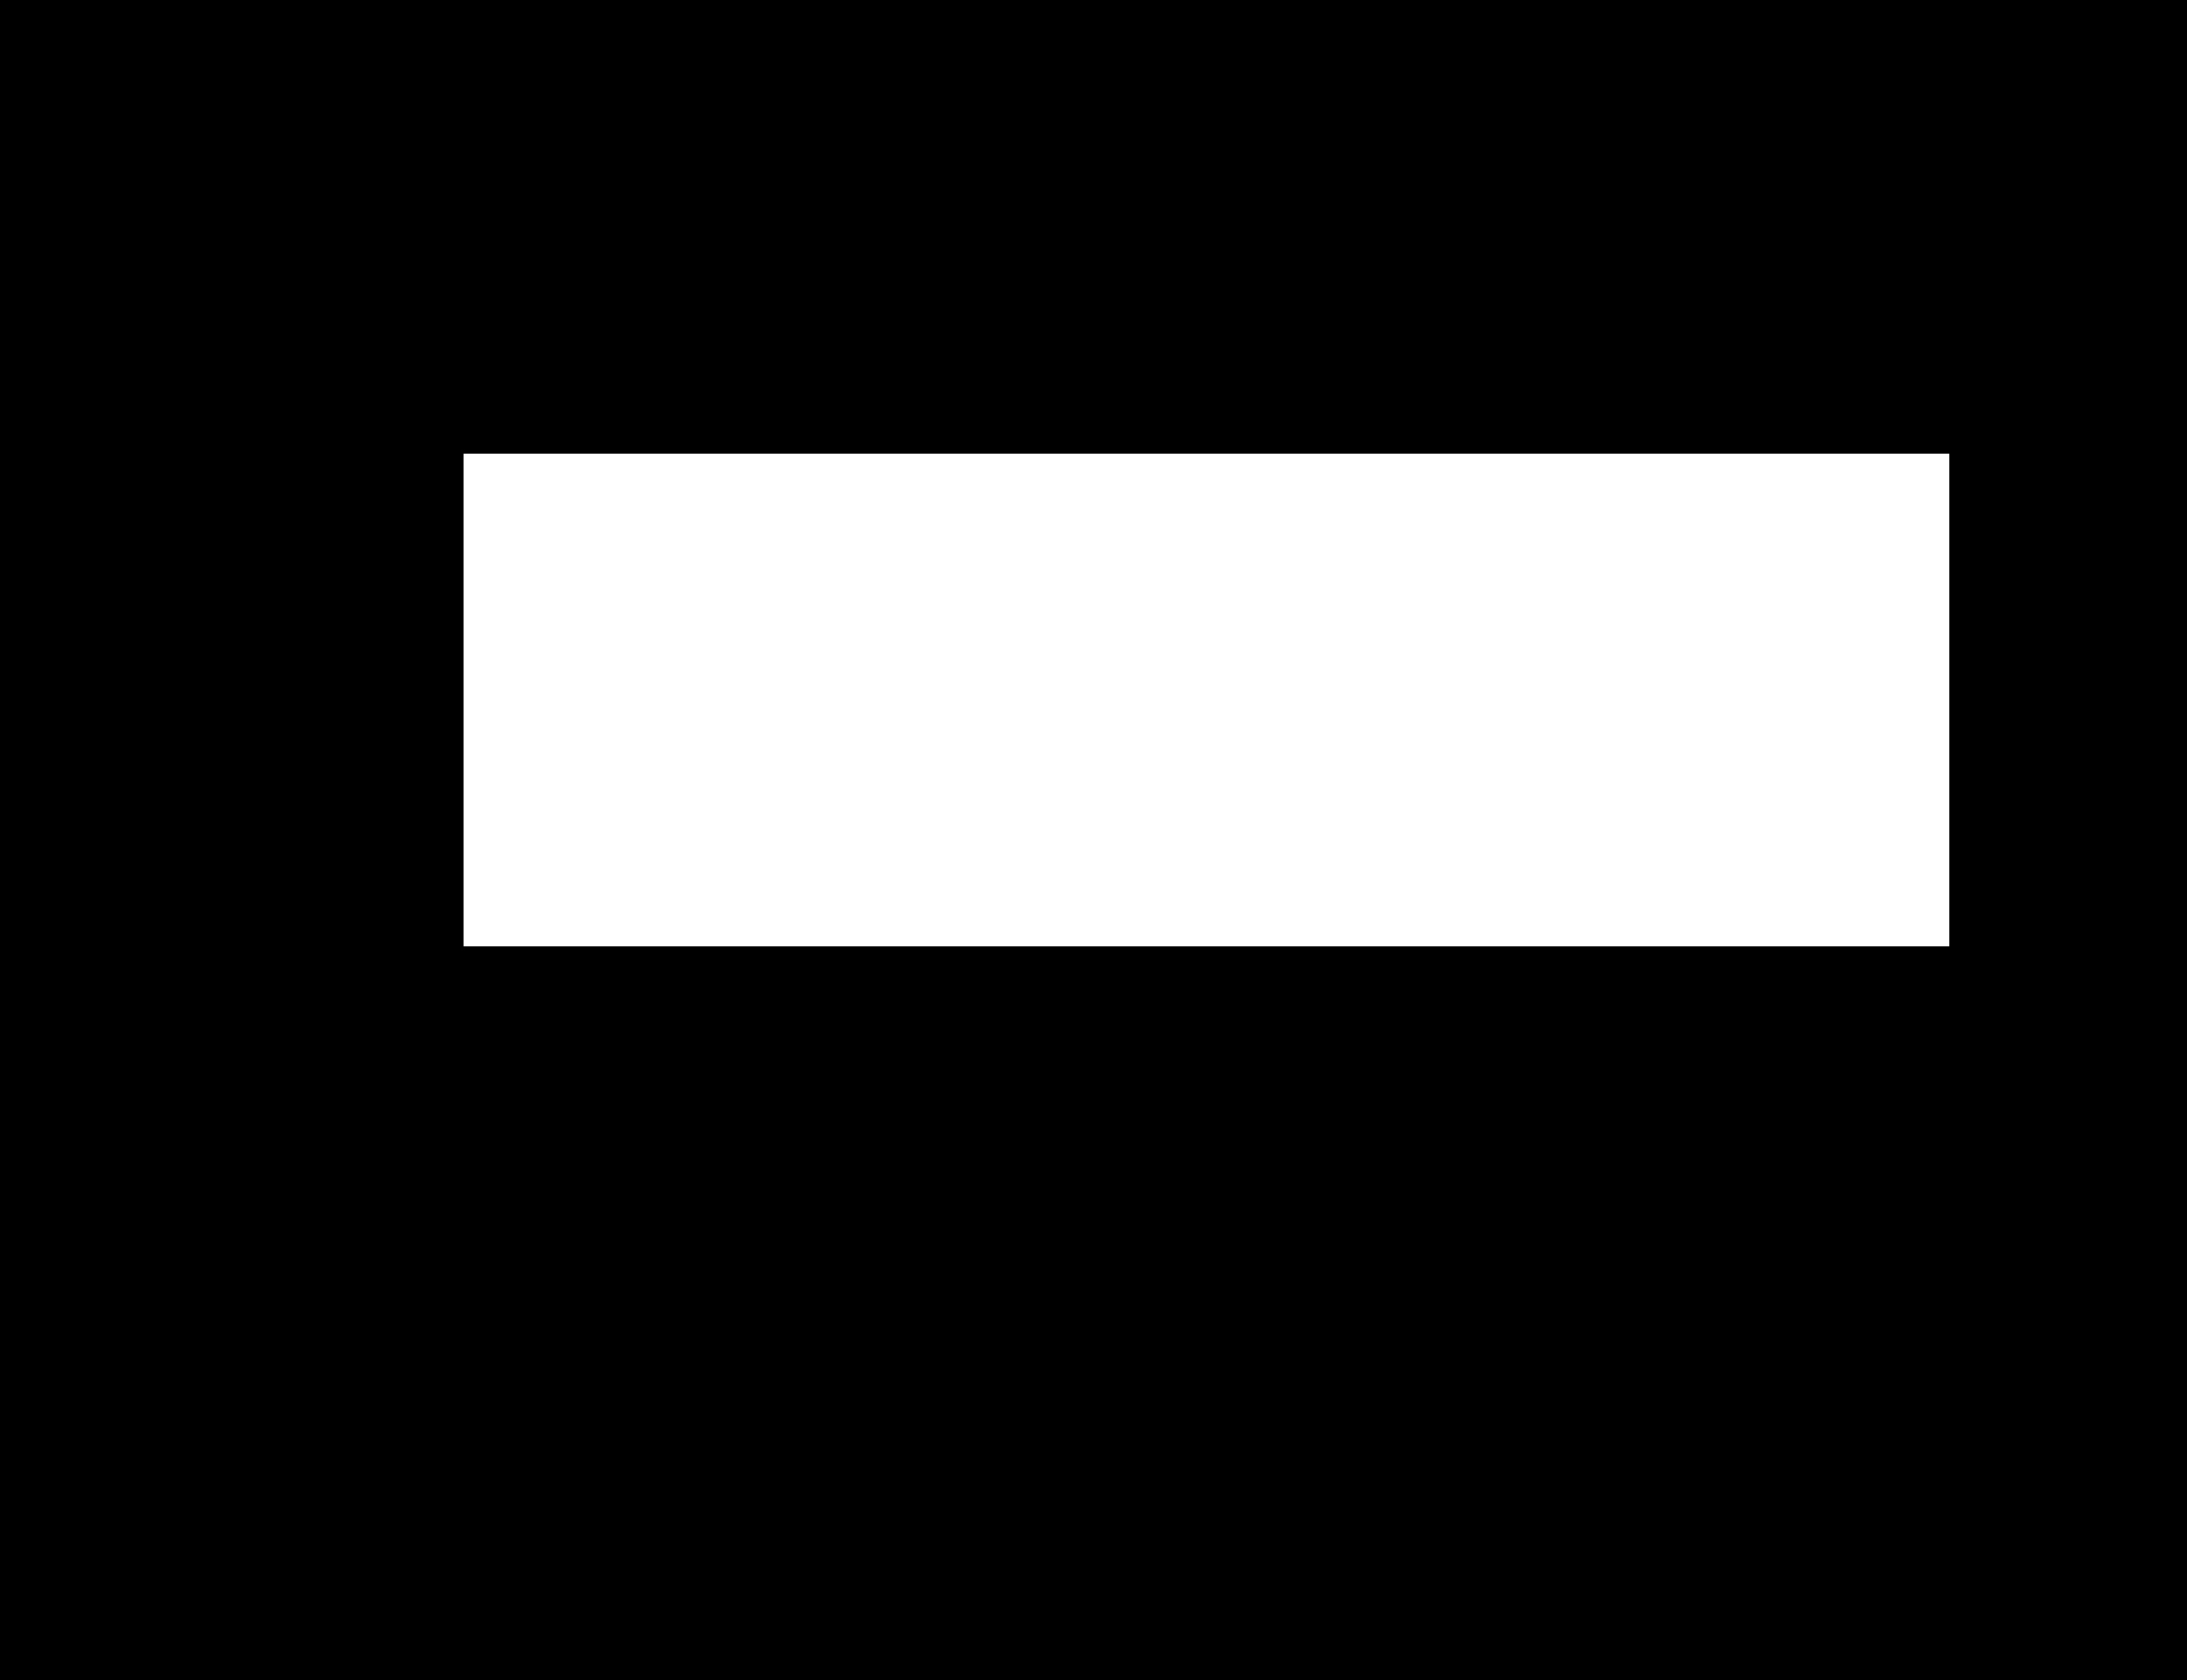table: (464, 454, 1949, 946)
